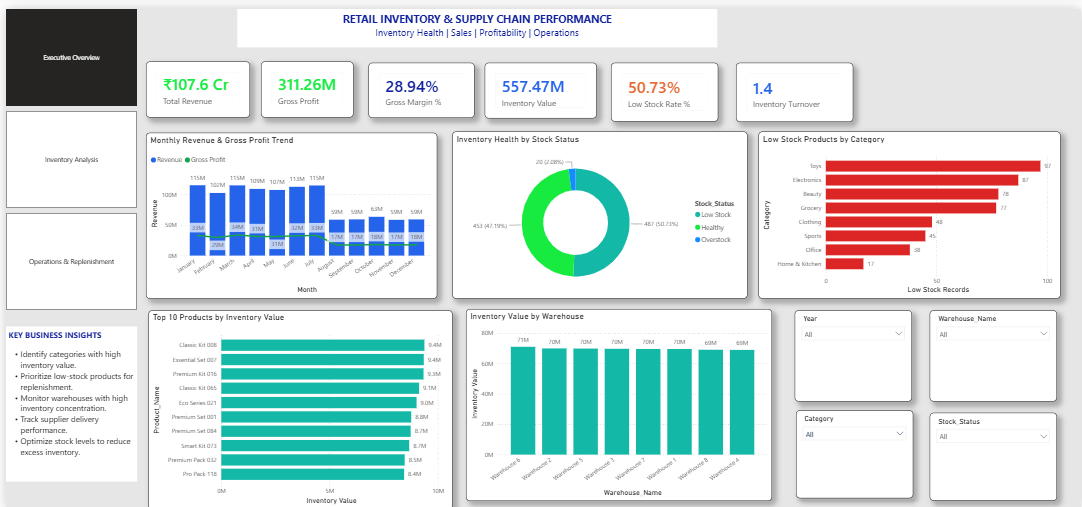

This screenshot's page, from the dashboard's own definition file:
{"tool":"powerbi","page":{"name":"Executive Overview","canvas":[2150,1000],"ordinal":0},"visuals":[{"type":"textbox","box":[463.3,0,960,76.7],"z":0},{"type":"cardVisual","fields":{"Data":["Sales.Total Revenue Display"]},"box":[280,106,208.3,111.7],"z":1},{"type":"cardVisual","fields":{"Data":["Sales.Gross Margin %"]},"box":[724,108,211.7,110],"z":2},{"type":"cardVisual","fields":{"Data":["Sales.Total Gross Profit"]},"box":[510,106,185,111.7],"z":3},{"type":"cardVisual","fields":{"Data":["Sales.Low Stock Rate %"]},"box":[1210,108,214.2,117.2],"z":4},{"type":"cardVisual","fields":{"Data":["Inventory.Inventory Value"]},"box":[958,108,223.9,111.2],"z":5},{"type":"cardVisual","fields":{"Data":["Sales.Inventory Turnover"]},"box":[1460,108,234.6,118.1],"z":6},{"type":"lineClusteredColumnComboChart","title":"Monthly Revenue & Gross Profit Trend","fields":{"Category":["Calendar.Year Month.Variation.Date Hierarchy.Month"],"Y":["Sales.Total Revenue"],"Y2":["Sales.Total Gross Profit"]},"box":[280,248,582,332],"z":7},{"type":"donutChart","title":"Inventory Health by Stock Status","fields":{"Category":["Inventory.Stock_Status"],"Y":["CountNonNull(Inventory.Stock_Status)"]},"box":[892,246,590,334],"z":8},{"type":"clusteredBarChart","title":"Top 10 Products by Inventory Value","fields":{"Category":["Products.Product_Name"],"Y":["Inventory.Inventory Value"]},"box":[284,602,608,398],"z":9},{"type":"clusteredBarChart","title":"Low Stock Products by Category","fields":{"Category":["Products.Category"],"Y":["Sales.Low Stock Records"]},"box":[1504,246,604,334],"z":10},{"type":"clusteredColumnChart","title":"Inventory Value by Warehouse","fields":{"Category":["Warehouses.Warehouse_Name"],"Y":["Inventory.Inventory Value"]},"box":[920,600,612,384],"z":11},{"type":"slicer","title":"Stock Stutas","fields":{"Values":["Inventory.Stock_Status"]},"box":[1848,808,254,176],"z":12},{"type":"slicer","title":"Category","fields":{"Values":["Products.Category"]},"box":[1580,802,234,176],"z":13},{"type":"slicer","title":"Year","fields":{"Values":["Calendar.Year"]},"box":[1578,602,234,182],"z":14},{"type":"slicer","title":"Warehouse","fields":{"Values":["Warehouses.Warehouse_Name"]},"box":[1848,602,254,182],"z":15},{"type":"pageNavigator","box":[0,0,262,602],"z":16},{"type":"textbox","box":[0,634,262,310],"z":17}]}

Visuals, with their boxes on the page's 2150x1000 design canvas (x1, y1, x2, y2). These are canvas units, not pixel positions in the 1082x507 screenshot, which may show the page scaled, cropped or inside an application window:
textbox: <box>463,0,1423,77</box>
cardVisual - Sales.Total Revenue Display: <box>280,106,488,218</box>
cardVisual - Sales.Gross Margin %: <box>724,108,936,218</box>
cardVisual - Sales.Total Gross Profit: <box>510,106,695,218</box>
cardVisual - Sales.Low Stock Rate %: <box>1210,108,1424,225</box>
cardVisual - Inventory.Inventory Value: <box>958,108,1182,219</box>
cardVisual - Sales.Inventory Turnover: <box>1460,108,1695,226</box>
"Monthly Revenue & Gross Profit Trend" lineClusteredColumnComboChart: <box>280,248,862,580</box>
"Inventory Health by Stock Status" donutChart: <box>892,246,1482,580</box>
"Top 10 Products by Inventory Value" clusteredBarChart: <box>284,602,892,1000</box>
"Low Stock Products by Category" clusteredBarChart: <box>1504,246,2108,580</box>
"Inventory Value by Warehouse" clusteredColumnChart: <box>920,600,1532,984</box>
"Stock Stutas" slicer: <box>1848,808,2102,984</box>
"Category" slicer: <box>1580,802,1814,978</box>
"Year" slicer: <box>1578,602,1812,784</box>
"Warehouse" slicer: <box>1848,602,2102,784</box>
pageNavigator: <box>0,0,262,602</box>
textbox: <box>0,634,262,944</box>
